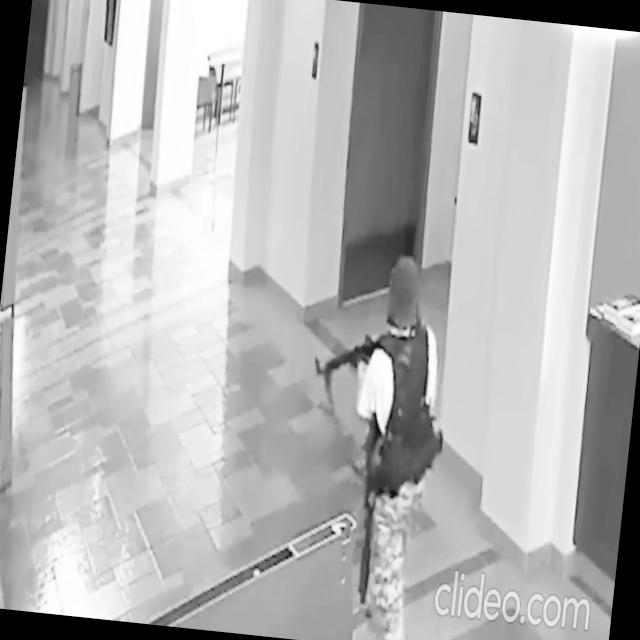gun: (346, 412, 390, 608), (313, 322, 386, 387)
person with a gun: (287, 244, 458, 640)
